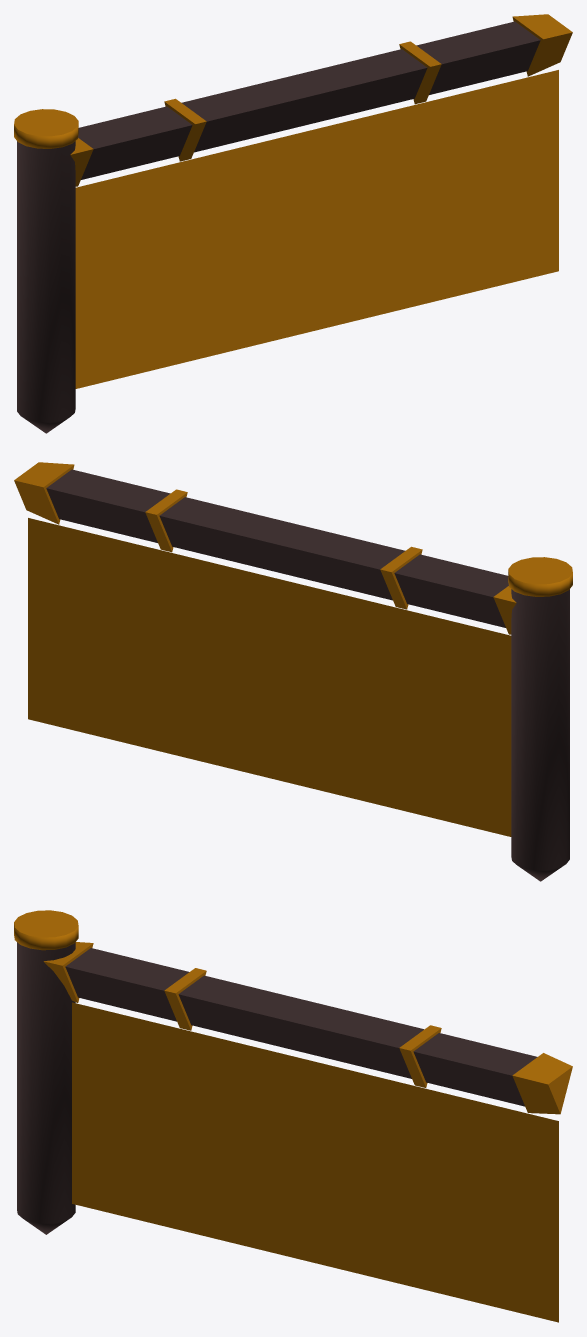
Rendered from Railing Short.fbx.
The picture shows the model from 3 angles, top to bottom: view 1: azimuth 30°, elevation 25°; view 2: azimuth 150°, elevation 25°; view 3: azimuth 330°, elevation 25°; orthographic projection.
Visible parts, largest first — view 1: Railing Short; view 2: Railing Short; view 3: Railing Short.
Part boxes in pixels (x1,y1,x2,y2): Railing Short: [14, 14, 572, 433]; Railing Short: [14, 462, 572, 881]; Railing Short: [14, 910, 572, 1322].
Bounding box in the file's own units: 211 × 116 × 22.
